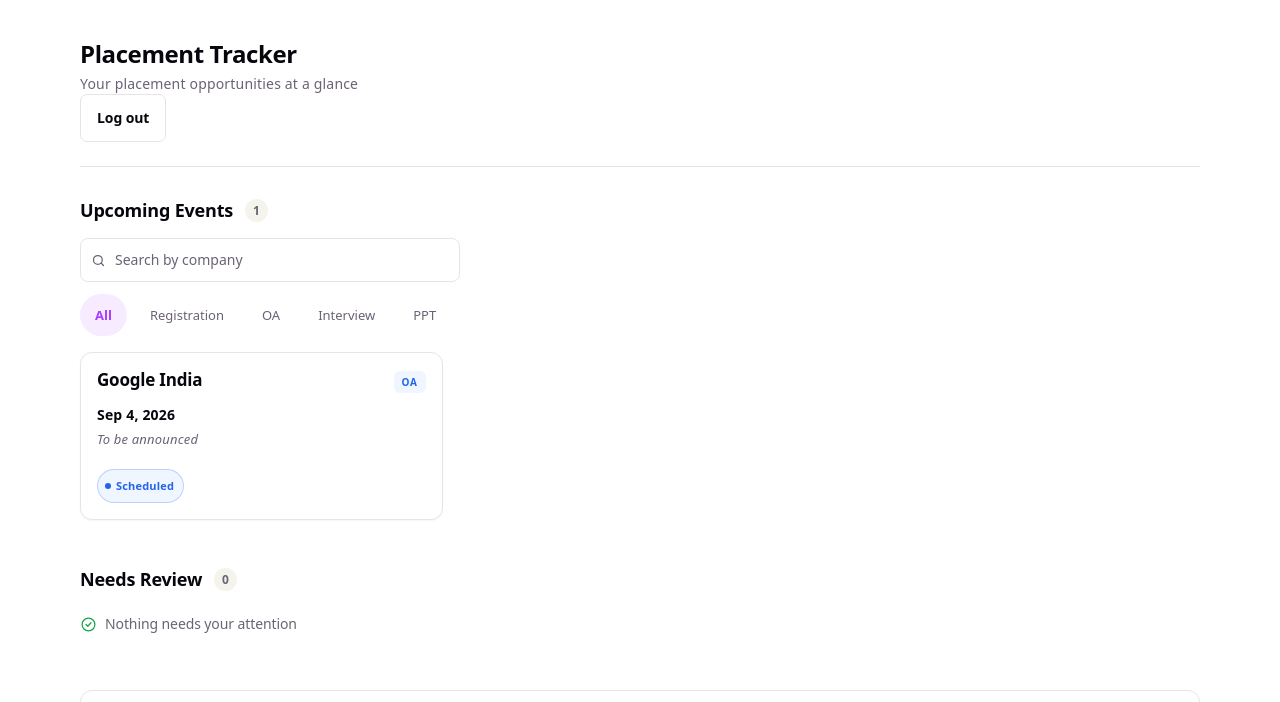
Test: when nothing matches › reports an empty stage without inventing a search term
Expected: the heading "Needs Review" is shown, [80,568,202,591]
Click the button "PPT".
click(425, 315)  # box [398,294,451,336]
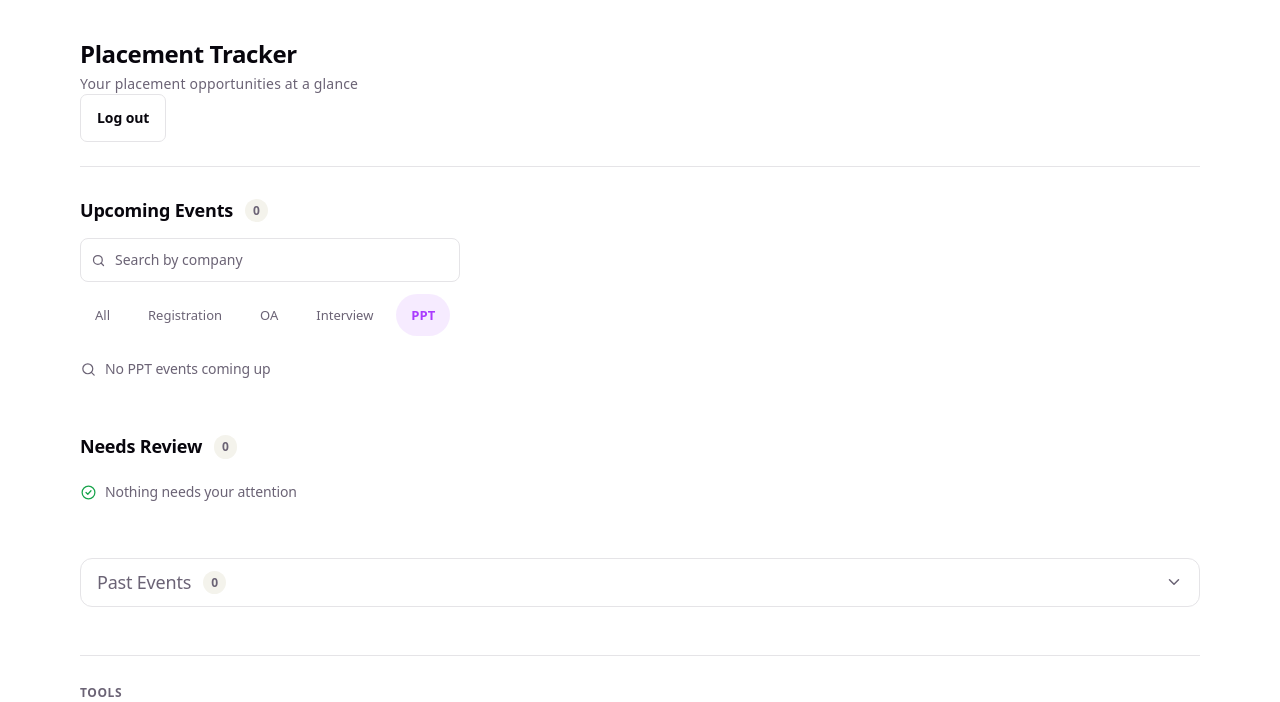
Expected: the text "No PPT events coming up" is shown, [105,360,270,379]
